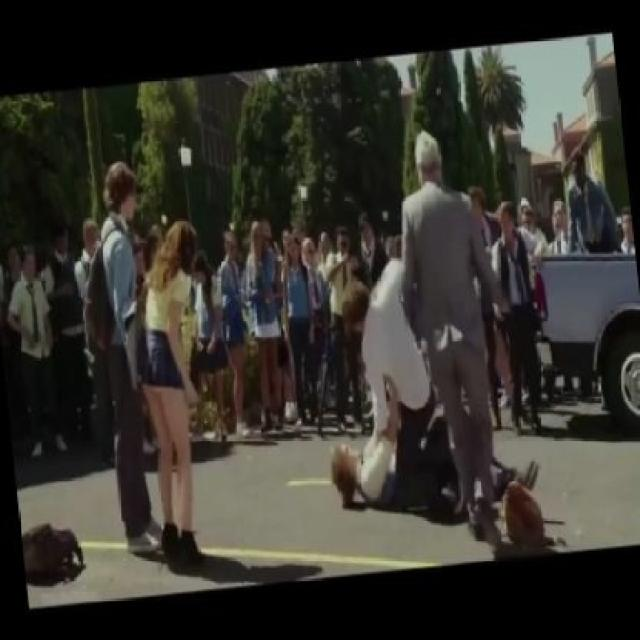fight: (330, 258, 539, 518)
non-fight: (398, 124, 508, 526), (77, 156, 165, 555), (133, 217, 215, 573), (209, 223, 255, 443), (243, 216, 285, 432), (277, 232, 323, 425)
